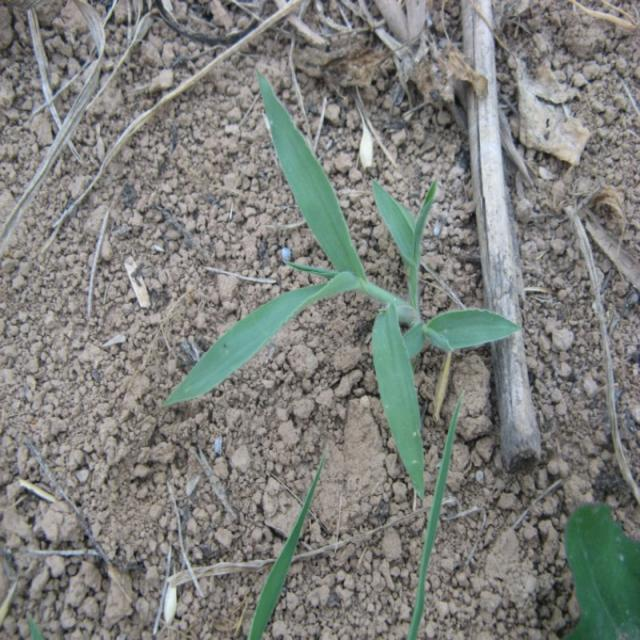bg: (162, 68, 525, 500)
